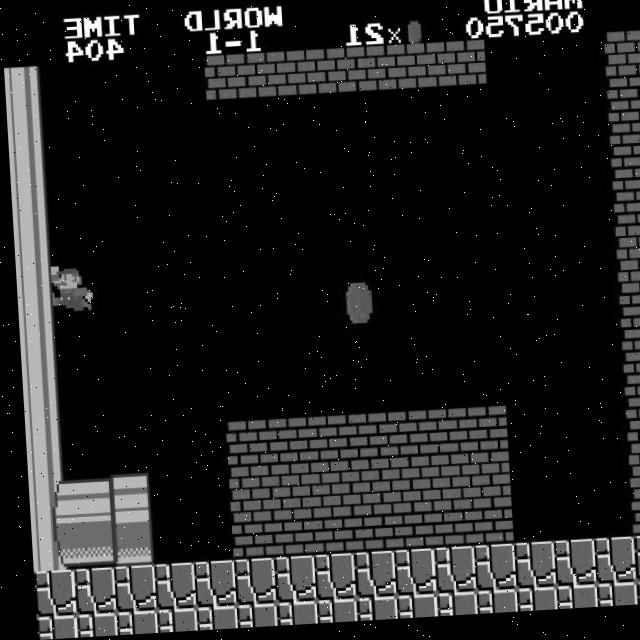1- brick_block: (443, 46, 486, 94), (462, 458, 505, 506), (464, 503, 507, 551), (403, 48, 446, 96), (422, 459, 465, 507), (424, 505, 467, 553), (363, 50, 406, 98), (382, 461, 425, 509), (384, 507, 427, 555), (323, 52, 366, 100), (342, 463, 385, 511), (344, 509, 387, 557), (302, 465, 345, 513), (243, 55, 286, 103), (262, 467, 305, 515), (264, 512, 307, 560), (203, 57, 246, 105), (222, 469, 265, 517), (224, 514, 267, 562), (460, 412, 503, 459), (420, 414, 463, 461), (380, 416, 423, 463), (340, 418, 383, 465), (283, 54, 326, 101), (304, 511, 347, 558), (260, 421, 303, 468), (220, 423, 263, 470), (300, 420, 343, 466), (603, 38, 640, 86), (605, 84, 640, 131), (607, 130, 640, 177), (610, 175, 640, 223), (612, 221, 640, 269), (614, 267, 640, 314), (616, 312, 640, 360), (618, 358, 640, 406), (620, 404, 640, 451), (622, 450, 640, 497), (624, 495, 640, 543)
11- little_mario: (47, 262, 92, 313)
14- pipe: (24, 523, 68, 571), (7, 158, 51, 205), (62, 476, 105, 524), (64, 522, 107, 570), (3, 66, 46, 114), (10, 203, 53, 251), (12, 249, 55, 297), (16, 340, 59, 388), (18, 386, 61, 434), (5, 112, 48, 159), (14, 295, 57, 342), (20, 432, 63, 479), (22, 478, 65, 525)
15- pipe_head: (102, 474, 145, 522), (104, 520, 147, 568)
17- undestructible_block: (546, 545, 589, 593), (506, 547, 549, 595), (466, 549, 509, 597), (426, 551, 469, 599), (386, 553, 429, 601), (346, 555, 389, 603), (266, 558, 309, 606), (226, 560, 269, 608), (186, 562, 229, 610), (146, 564, 189, 612), (106, 566, 149, 614), (66, 568, 109, 616), (27, 569, 70, 617), (586, 544, 629, 591), (306, 557, 349, 604), (588, 589, 630, 614), (548, 591, 590, 616), (508, 593, 550, 618), (468, 595, 510, 620), (428, 596, 470, 621), (388, 598, 430, 623), (348, 600, 390, 625), (308, 602, 350, 627), (268, 604, 310, 629), (228, 606, 270, 631), (188, 608, 230, 633), (108, 611, 150, 636), (68, 613, 110, 638), (148, 610, 190, 634), (29, 615, 71, 639), (627, 541, 640, 589), (629, 587, 640, 611)
2- coin: (333, 280, 376, 328)
